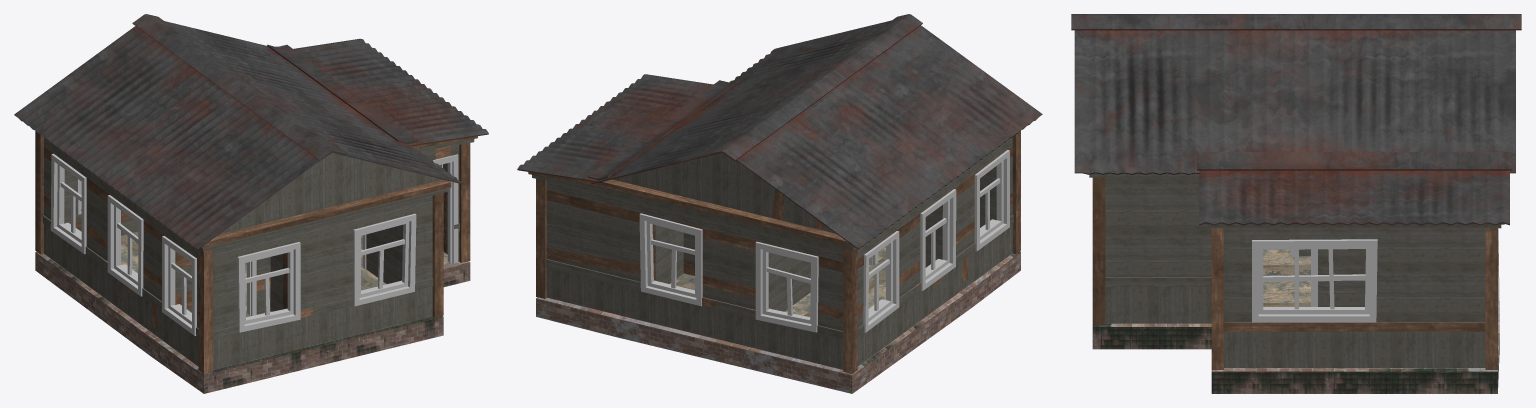
File: House_01.fbx
3 views of the same model, side by side, from view 1: azimuth 30°, elevation 25°; view 2: azimuth 150°, elevation 25°; view 3: azimuth 270°, elevation 25° (orthographic). The views are drawn at different scales.
Visible parts, largest first — view 1: House_LOD0; view 2: House_LOD0; view 3: House_LOD0.
Boxes of the visible parts, x1,y1,x2,y2 form: House_LOD0: (14,14,488,393); House_LOD0: (517,14,1042,393); House_LOD0: (1071,14,1521,393).
Size of what is drawn, in the model's own units: 722 by 442 by 683.
